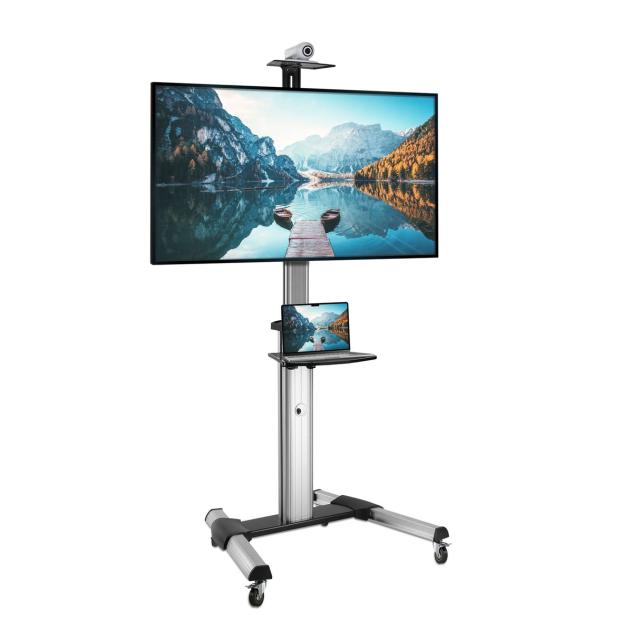electronics: (151, 85, 448, 606), (151, 83, 436, 263), (269, 59, 358, 134), (282, 303, 371, 364), (282, 302, 350, 354), (267, 55, 334, 89), (269, 351, 376, 368), (282, 351, 372, 365), (354, 93, 391, 113), (285, 41, 314, 59), (288, 351, 318, 359), (321, 350, 350, 357), (294, 402, 307, 416), (302, 43, 311, 52), (387, 110, 399, 114), (402, 102, 408, 108), (401, 112, 406, 117), (402, 94, 409, 97), (340, 110, 344, 113), (412, 95, 418, 97), (396, 103, 398, 108), (310, 51, 313, 54), (300, 43, 303, 45), (423, 102, 425, 105)
